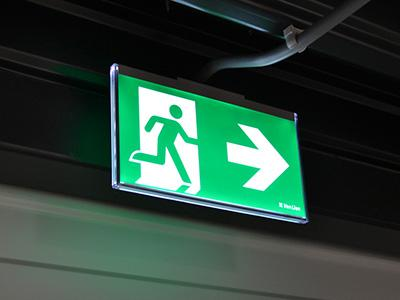lit_exit_sign: (116, 72, 308, 223)
